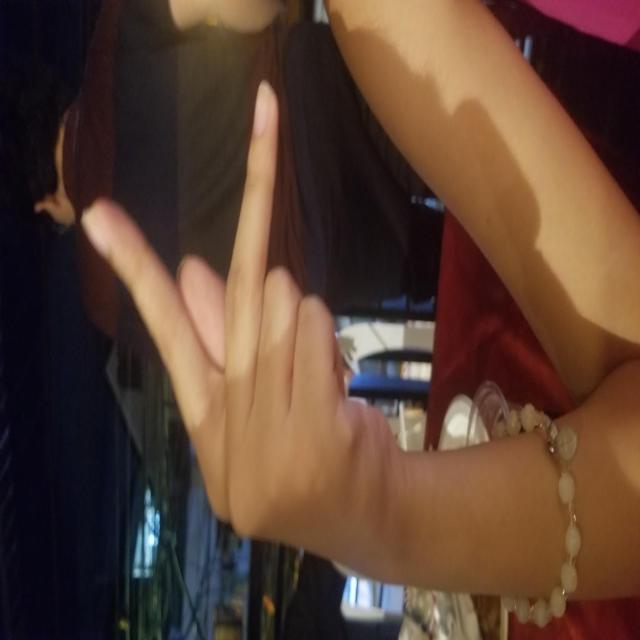K: (72, 83, 565, 378)
